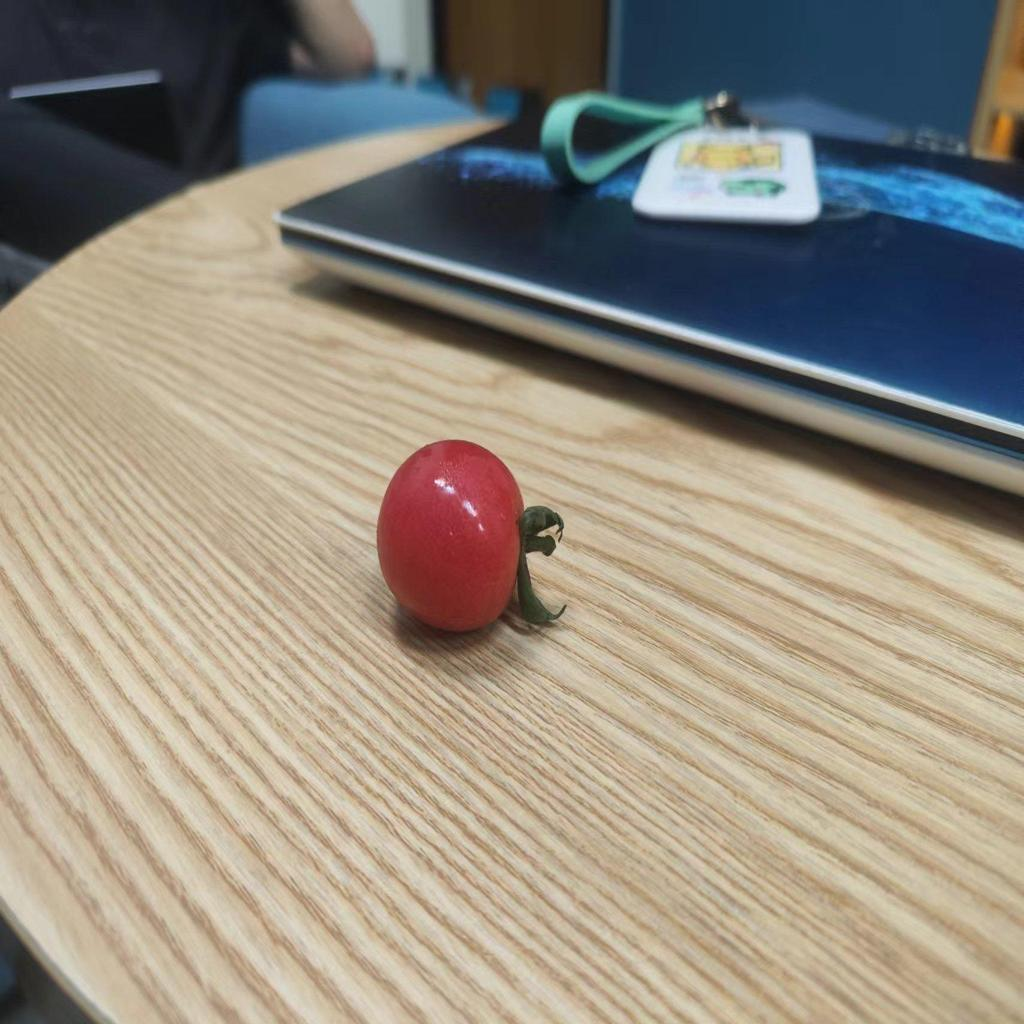tomato: (371, 432, 552, 645)
